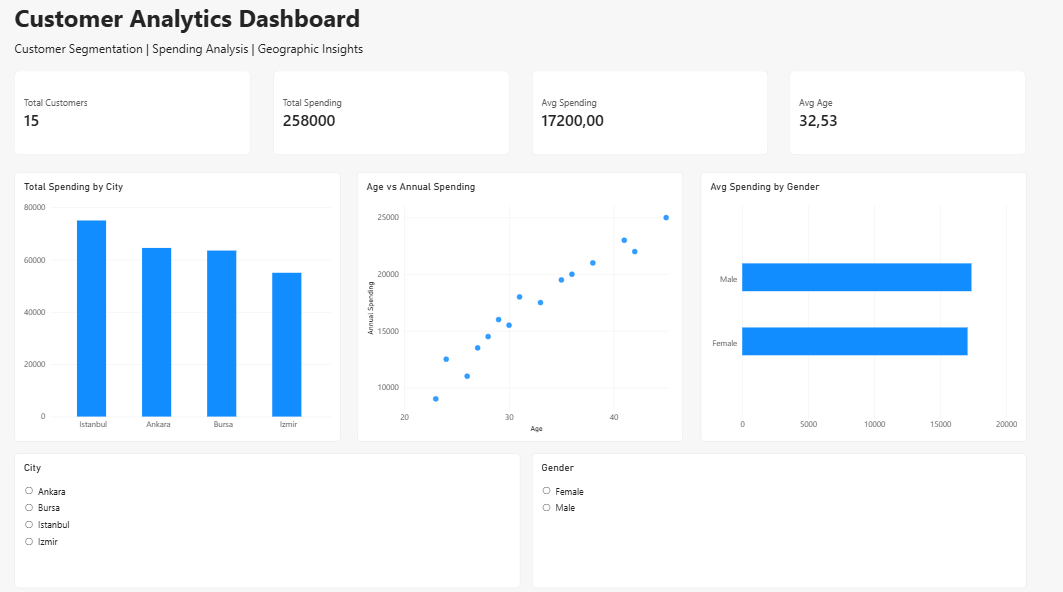

What the dashboard file says about the page in this screenshot:
{"tool":"powerbi","page":{"name":"1. sayfa","canvas":[1920,1080],"ordinal":0},"visuals":[{"type":"textbox","box":[40,15,1300,70],"z":0},{"type":"textbox","box":[40,85,1300,40],"z":1},{"type":"cardVisual","fields":{"Data":["CountDistinct(customers.Customer_ID)"]},"box":[40,140,420,150],"z":2},{"type":"cardVisual","fields":{"Data":["Sum(customers.Annual_Spending)"]},"box":[500,140,420,150],"z":3},{"type":"cardVisual","fields":{"Data":["Avg(customers.Annual_Spending)"]},"box":[960,140,420,150],"z":4},{"type":"cardVisual","fields":{"Data":["Avg(customers.Age)"]},"box":[1420,140,420,150],"z":5},{"type":"clusteredColumnChart","title":"Total Spending by City","fields":{"Category":["customers.City"],"Y":["Sum(customers.Annual_Spending)"]},"box":[40,320,580,480],"z":6},{"type":"scatterChart","title":"Age vs Annual Spending","fields":{"Category":["customers.Customer_ID"],"X":["Sum(customers.Age)"],"Y":["Sum(customers.Annual_Spending)"]},"box":[650,320,580,480],"z":7},{"type":"clusteredBarChart","title":"Avg Spending by Gender","fields":{"Category":["customers.Gender"],"Y":["Avg(customers.Annual_Spending)"]},"box":[1260,320,580,480],"z":8},{"type":"listSlicer","title":"City","fields":{"Values":["customers.City"]},"box":[40,820,900,240],"z":9},{"type":"listSlicer","title":"Gender","fields":{"Values":["customers.Gender"]},"box":[960,820,880,240],"z":10}]}

Visuals, with their boxes in screenshot pixels (x1, y1, x2, y2), scaled from the page's 1920x1080 canvas onto the 1063x592 screenshot:
textbox: <bbox>22, 8, 742, 47</bbox>
textbox: <bbox>22, 47, 742, 69</bbox>
cardVisual - CountDistinct(customers.Customer_ID): <bbox>22, 77, 255, 159</bbox>
cardVisual - Sum(customers.Annual_Spending): <bbox>277, 77, 509, 159</bbox>
cardVisual - Avg(customers.Annual_Spending): <bbox>532, 77, 764, 159</bbox>
cardVisual - Avg(customers.Age): <bbox>786, 77, 1019, 159</bbox>
"Total Spending by City" clusteredColumnChart: <bbox>22, 175, 343, 439</bbox>
"Age vs Annual Spending" scatterChart: <bbox>360, 175, 681, 439</bbox>
"Avg Spending by Gender" clusteredBarChart: <bbox>698, 175, 1019, 439</bbox>
"City" listSlicer: <bbox>22, 449, 520, 581</bbox>
"Gender" listSlicer: <bbox>532, 449, 1019, 581</bbox>
